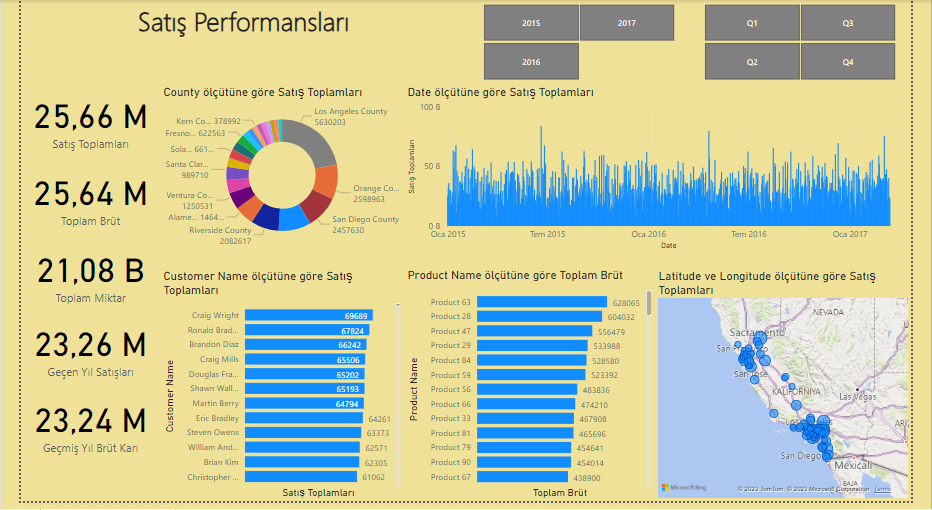

The dashboard page shown, as its layout file describes it:
{"tool":"powerbi","page":{"name":"Satış Performansı","canvas":[1280,720],"ordinal":0},"visuals":[{"type":"textbox","box":[0,0,639.5,117.8],"z":0},{"type":"columnChart","title":"Date ölçütüne göre Satış Toplamları","fields":{"Category":["Tarih.Date"],"Y":["Anahtar Göstergeleri.Satış Toplamları"]},"box":[550.4,120.7,730.1,242.9],"z":1000},{"type":"barChart","fields":{"Category":["Ürünler.Product Name"],"Y":["Anahtar Göstergeleri.Toplam Brüt"]},"box":[550.4,385.1,360.7,334.9],"z":2000},{"type":"barChart","fields":{"Category":["Müşteriler.Customer Name"],"Y":["Anahtar Göstergeleri.Satış Toplamları"]},"box":[199.8,385.1,350.7,334.9],"z":3000},{"type":"map","fields":{"Y":["Bölgeler.Latitude"],"X":["Bölgeler.Longitude"],"Size":["Anahtar Göstergeleri.Satış Toplamları"]},"box":[911.1,385.1,369.3,334.9],"z":4000},{"type":"card","fields":{"Values":["Anahtar Göstergeleri.Satış Toplamları"]},"box":[0,116.4,199.8,110.7],"z":5000},{"type":"card","fields":{"Values":["Anahtar Göstergeleri.Toplam Miktar"]},"box":[0,337.7,199.8,110.7],"z":6000},{"type":"card","fields":{"Values":["Anahtar Göstergeleri.Toplam Brüt"]},"box":[0,227.1,199.8,110.7],"z":7000},{"type":"slicer","fields":{"Values":["Tarih.Year"]},"box":[639.5,0,323.4,120.7],"z":8000},{"type":"slicer","fields":{"Values":["Tarih.Çeyrek"]},"box":[957.1,0,323.4,120.7],"z":9000},{"type":"donutChart","fields":{"Category":["Bölgeler.County"],"Y":["Anahtar Göstergeleri.Satış Toplamları"]},"box":[199.8,120.7,350.7,242.9],"z":10000},{"type":"card","fields":{"Values":["Zaman Karşılaştırmas.Geçen Yıl Satışları"]},"box":[0,444.4,199.8,110.7],"z":11000},{"type":"card","fields":{"Values":["Zaman Karşılaştırmas.Geçmiş Yıl Brüt Karı"]},"box":[0,553.3,199.8,110.7],"z":12000}]}

Visuals, with their boxes in screenshot pixels (x1, y1, x2, y2), scaled from the page's 1280x720 canvas onto the 932x510 screenshot:
textbox: left=0, top=0, right=466, bottom=83
"Date ölçütüne göre Satış Toplamları" columnChart: left=401, top=85, right=931, bottom=258
barChart - Ürünler.Product Name x Anahtar Göstergeleri.Toplam Brüt: left=401, top=273, right=663, bottom=509
barChart - Müşteriler.Customer Name x Anahtar Göstergeleri.Satış Toplamları: left=145, top=273, right=401, bottom=509
map - Bölgeler.Latitude x Bölgeler.Longitude: left=663, top=273, right=931, bottom=509
card - Anahtar Göstergeleri.Satış Toplamları: left=0, top=82, right=145, bottom=161
card - Anahtar Göstergeleri.Toplam Miktar: left=0, top=239, right=145, bottom=318
card - Anahtar Göstergeleri.Toplam Brüt: left=0, top=161, right=145, bottom=239
slicer - Tarih.Year: left=466, top=0, right=701, bottom=85
slicer - Tarih.Çeyrek: left=697, top=0, right=931, bottom=85
donutChart - Bölgeler.County x Anahtar Göstergeleri.Satış Toplamları: left=145, top=85, right=401, bottom=258
card - Zaman Karşılaştırmas.Geçen Yıl Satışları: left=0, top=315, right=145, bottom=393
card - Zaman Karşılaştırmas.Geçmiş Yıl Brüt Karı: left=0, top=392, right=145, bottom=470
